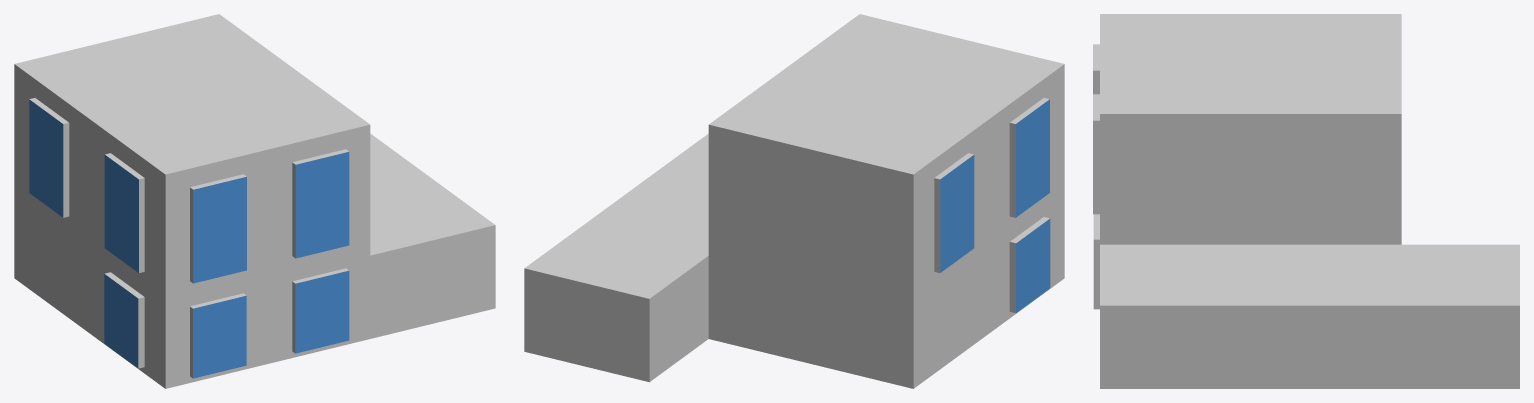
File: auntieHome.fbx
3 renders of one model, left to right at view 1: azimuth 30°, elevation 25°; view 2: azimuth 150°, elevation 25°; view 3: azimuth 270°, elevation 25°, orthographic.
Parts seen in each view (by area): view 1: Cube; view 2: Cube; view 3: Cube.
Boxes of the visible parts, box(x1,y1,x2,y2) form: Cube: box(14, 14, 495, 388); Cube: box(524, 14, 1064, 388); Cube: box(1093, 14, 1519, 388).
Size of the model in its own units: 2955 by 1800 by 3252.
